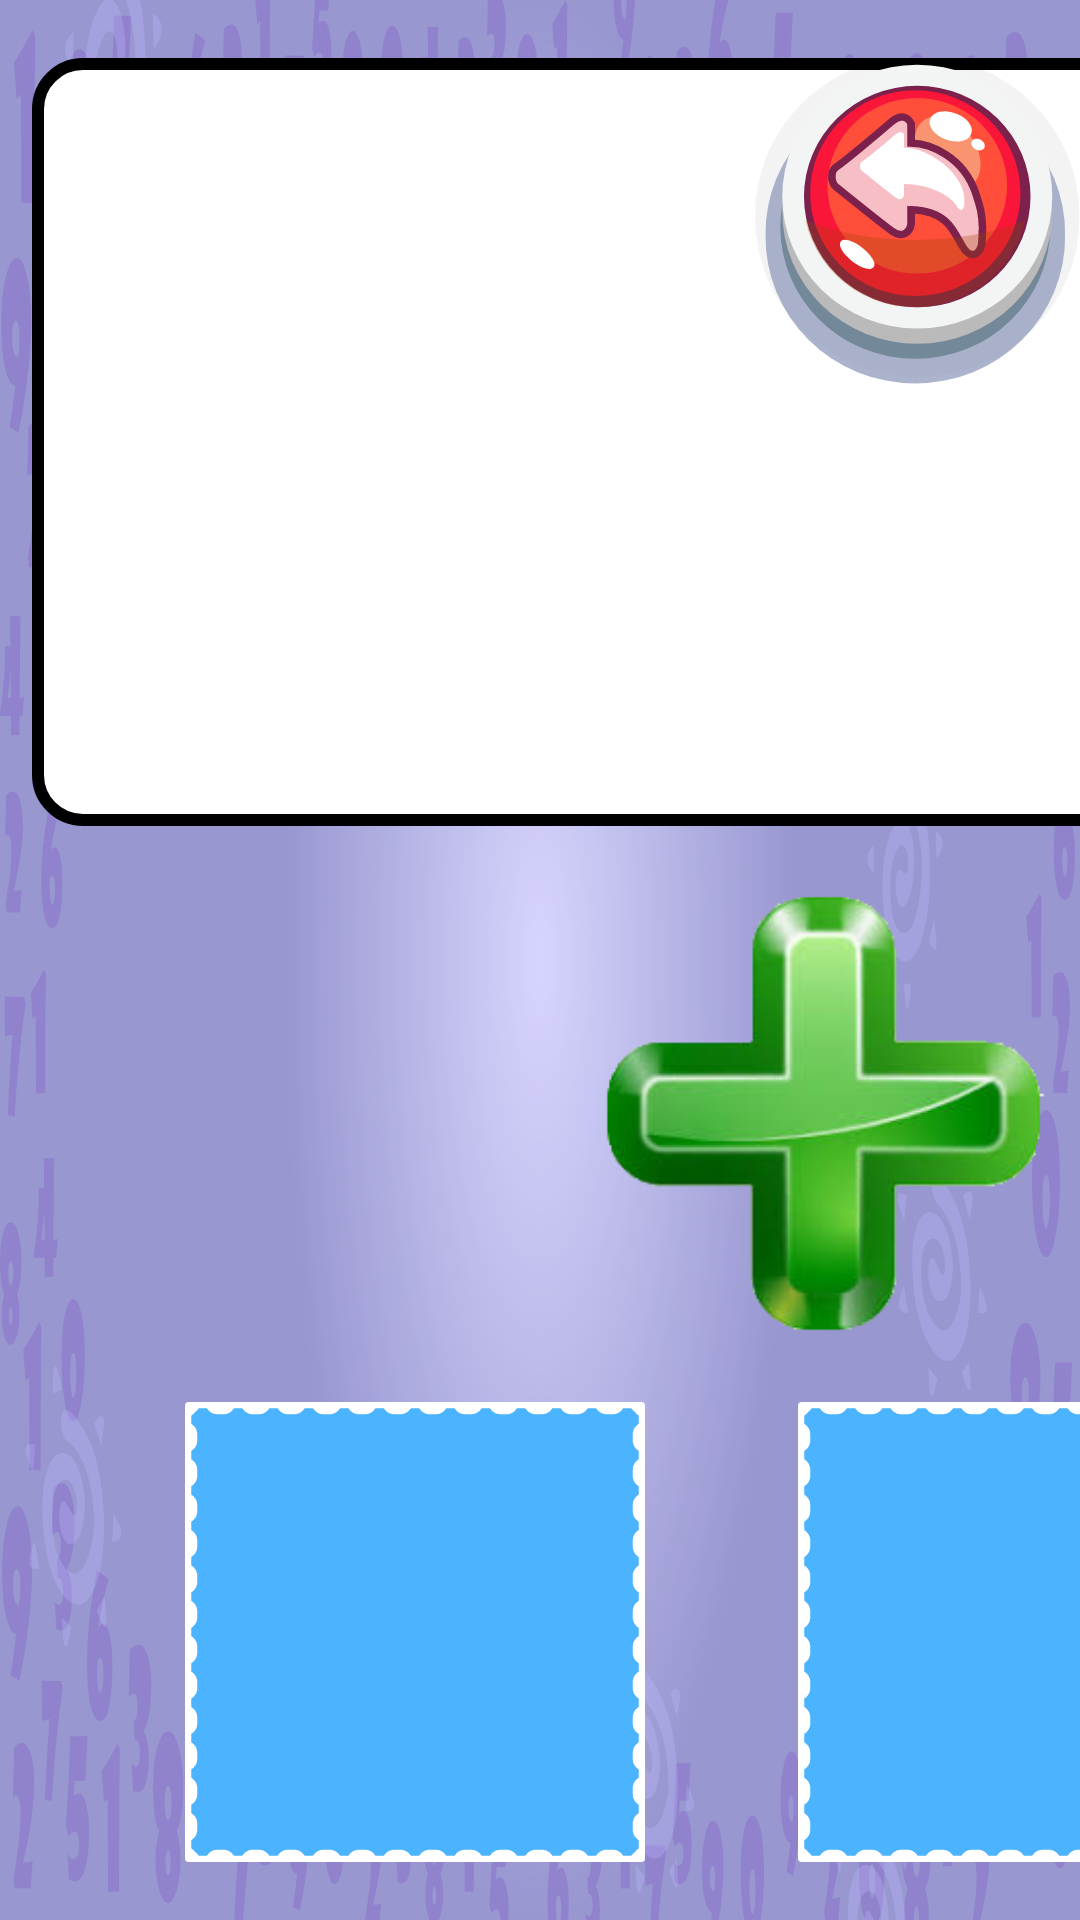

Screen size 1080 × 1920. Icon name, then its box in pixels as (x1,y1,x2,y2):
exit: (765,85,1065,384)
